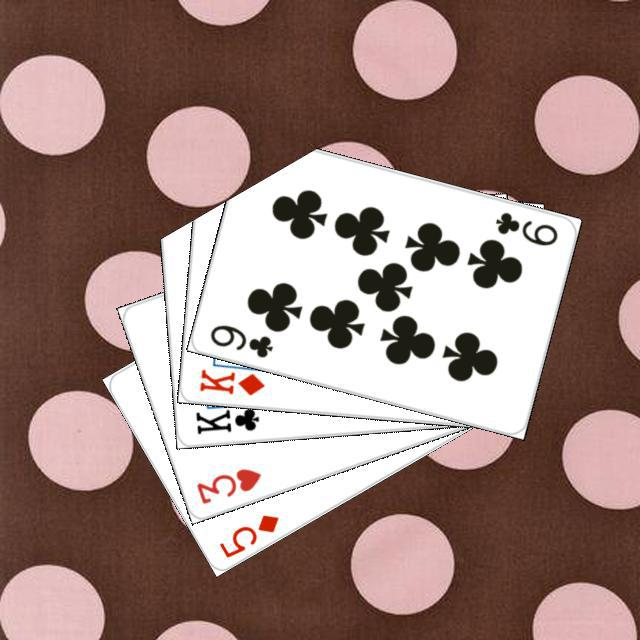3h: (191, 463, 263, 506)
5d: (214, 509, 281, 560)
9c: (205, 319, 275, 360), (490, 207, 560, 248)
Kc: (190, 397, 267, 437)
Kd: (194, 364, 266, 397)
